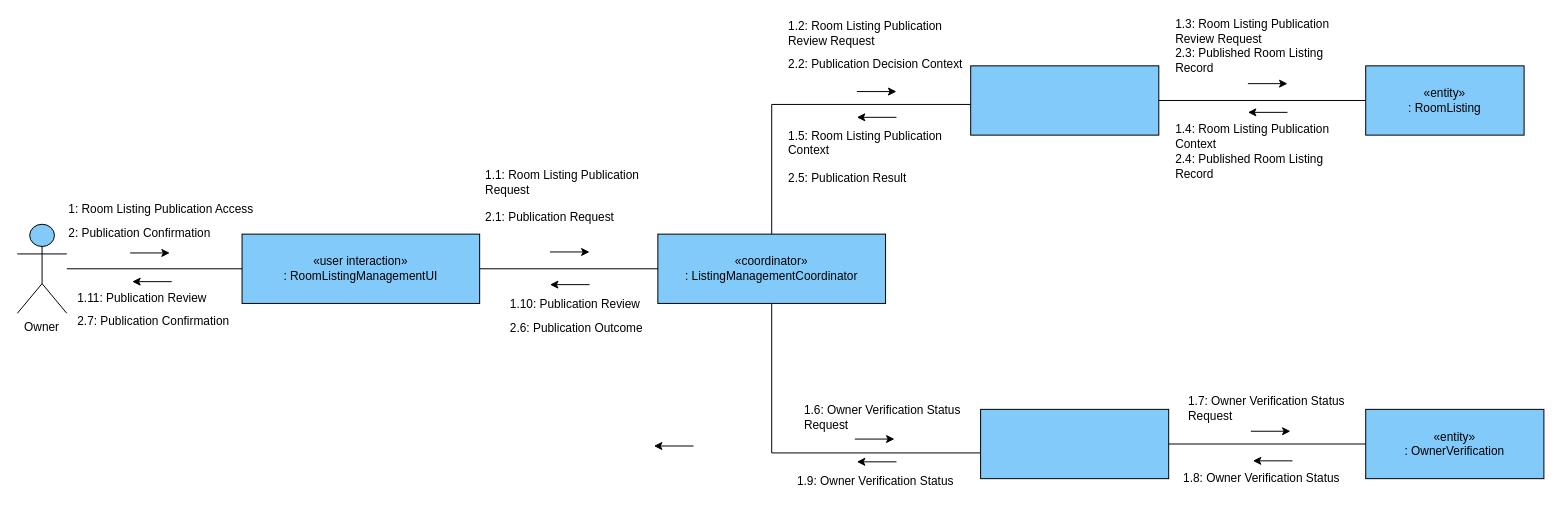
The diagram is 1561 pixels wide and 511 high, and some of its shapes have lost their labels. Here are the shapes that lost their labels. From the top down, the centre of each, then its label:
At point 1064,100: "«business logic» : RoomListingRules".
At point 1074,443: "«business logic» : VerificationLogic".
